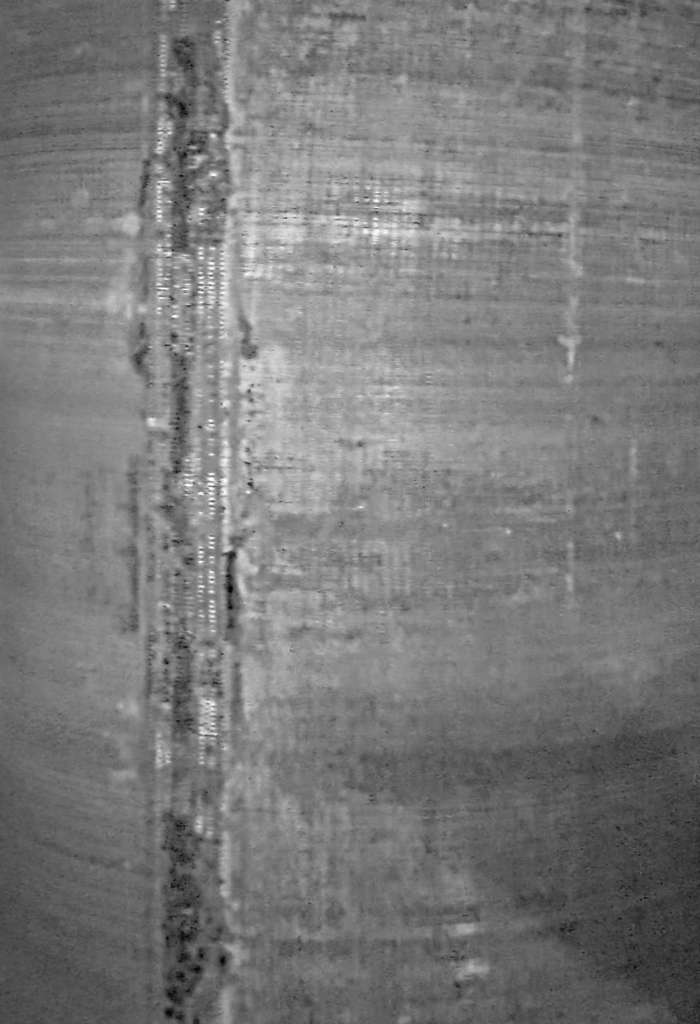splice: (125, 3, 275, 1024)
